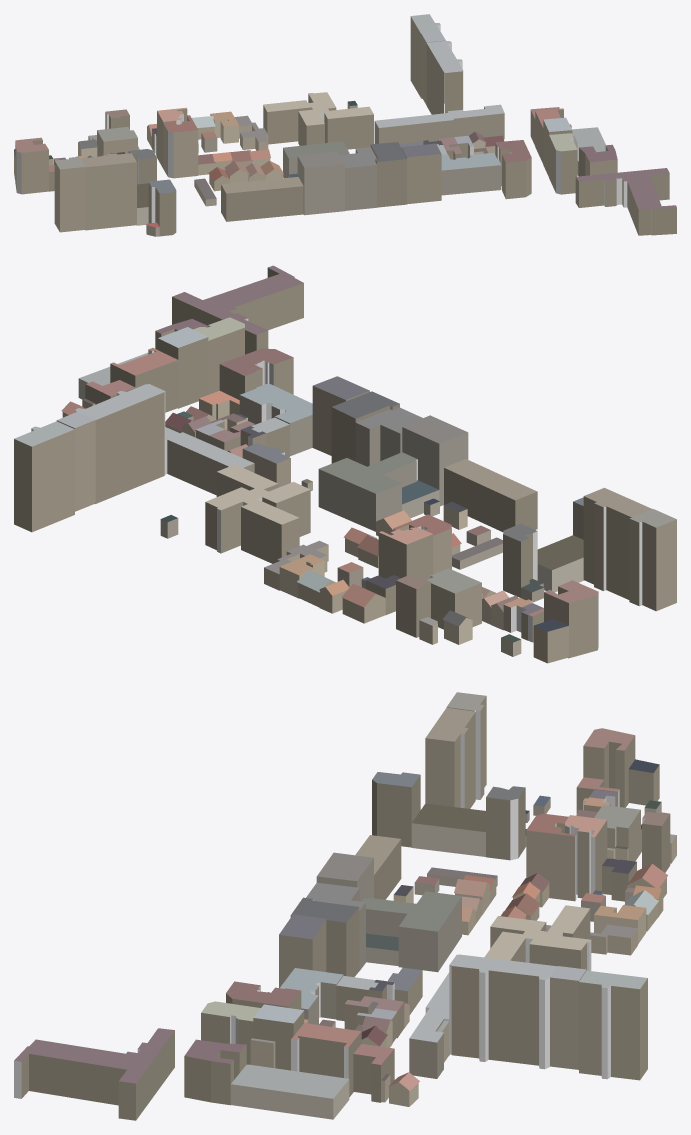
The picture shows the model from 3 angles, top to bottom: view 1: azimuth 30°, elevation 25°; view 2: azimuth 150°, elevation 25°; view 3: azimuth 270°, elevation 25°; orthographic projection. The views are drawn at different scales.
Parts seen in each view (by area): view 1: tuile; view 2: tuile; view 3: tuile.
Boxes of the visible parts, left/top/right/bottom form: tuile: left=14, top=14, right=676, bottom=236; tuile: left=14, top=265, right=676, bottom=663; tuile: left=14, top=692, right=676, bottom=1120.
Size of the model in its own units: 267 by 34.63 by 219.
